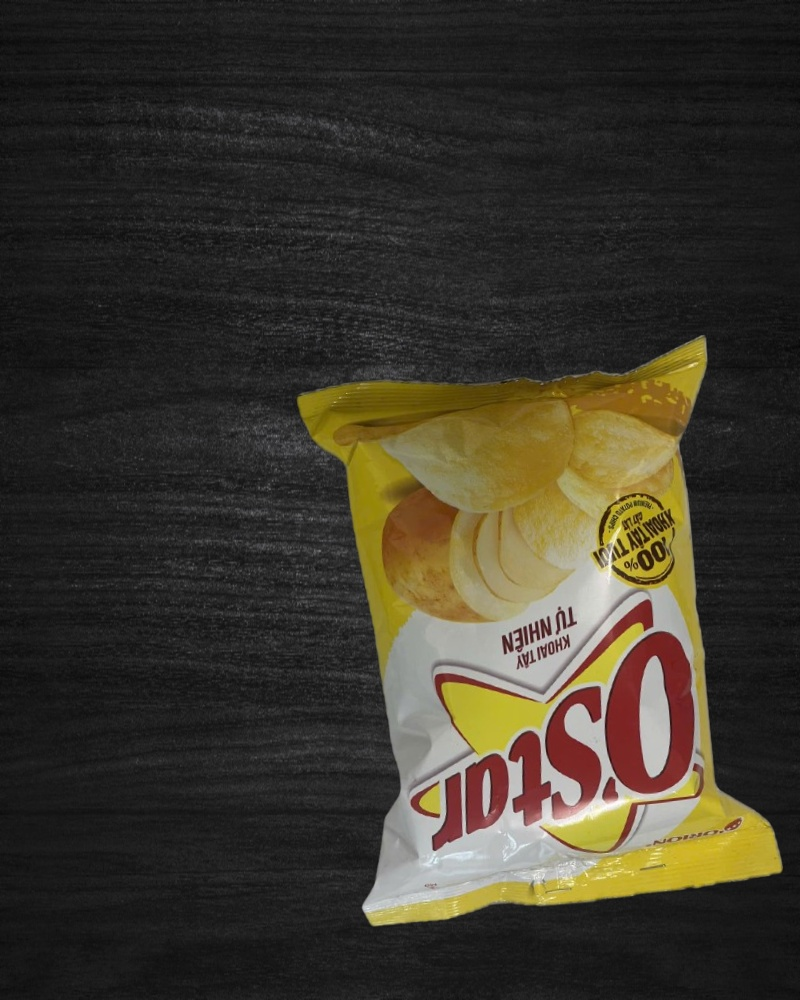Snack cua: (300, 339, 783, 923)
